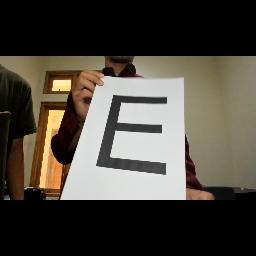e: (94, 92, 172, 180)
